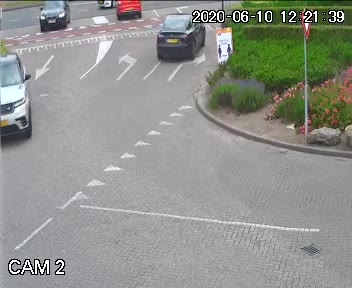car: (0, 56, 43, 151), (153, 11, 207, 66), (33, 0, 75, 35), (114, 0, 142, 21)
